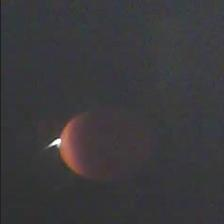fertile: (58, 106, 154, 182)
